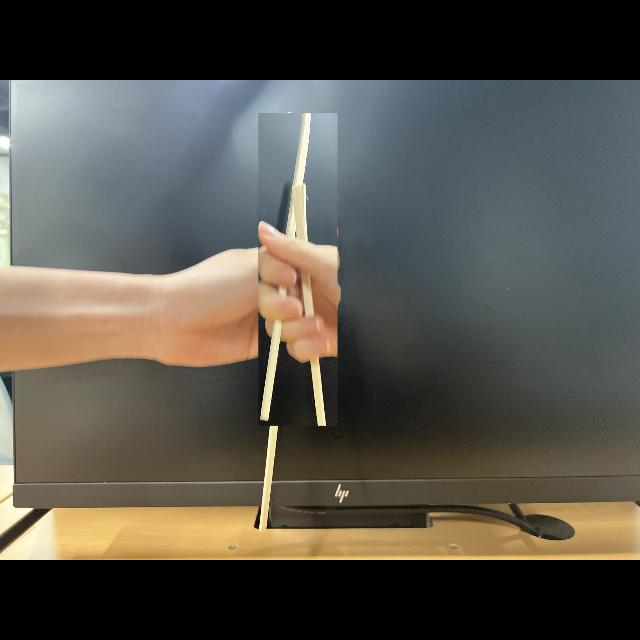stick: (258, 113, 338, 425)
